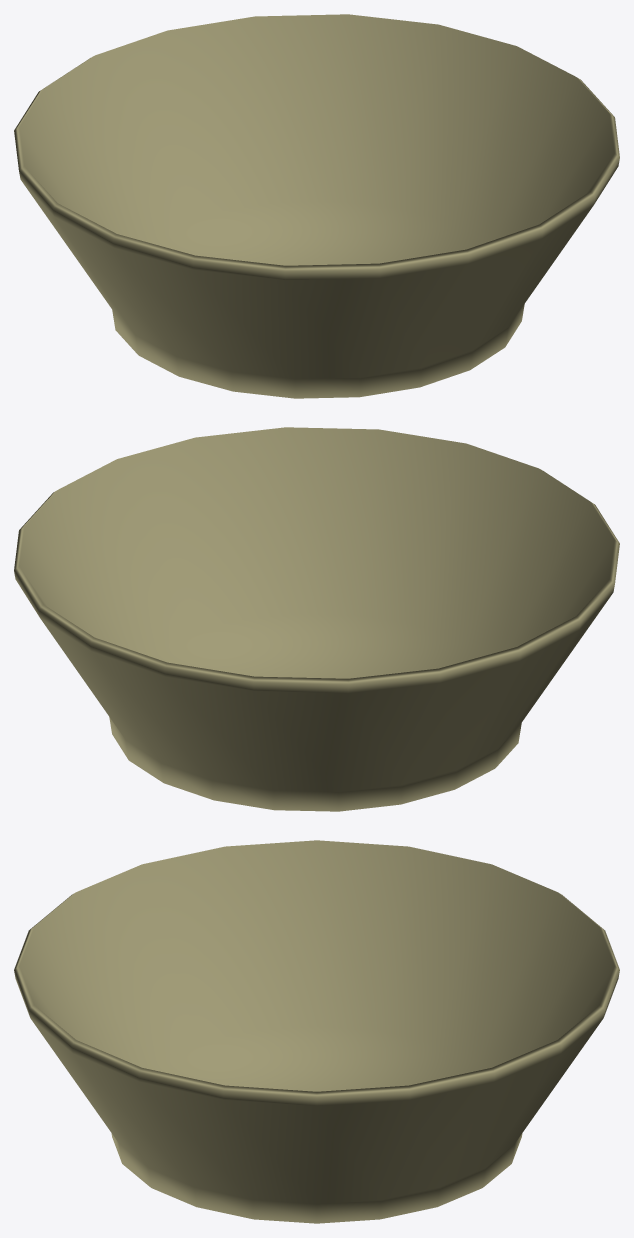
The picture shows the model from 3 angles, top to bottom: view 1: azimuth 30°, elevation 25°; view 2: azimuth 150°, elevation 25°; view 3: azimuth 270°, elevation 25°; orthographic projection.
Parts seen in each view (by area): view 1: G:\FFXIV-MapTools\exports\y6f3\bg\ex5\02_ykt_y6\fld\y6f3\bgp; view 2: G:\FFXIV-MapTools\exports\y6f3\bg\ex5\02_ykt_y6\fld\y6f3\bgp; view 3: G:\FFXIV-MapTools\exports\y6f3\bg\ex5\02_ykt_y6\fld\y6f3\bgp.
Part boxes in pixels (x1,y1,x2,y2): G:\FFXIV-MapTools\exports\y6f3\bg\ex5\02_ykt_y6\fld\y6f3\bgp: [14, 14, 619, 398]; G:\FFXIV-MapTools\exports\y6f3\bg\ex5\02_ykt_y6\fld\y6f3\bgp: [14, 427, 619, 811]; G:\FFXIV-MapTools\exports\y6f3\bg\ex5\02_ykt_y6\fld\y6f3\bgp: [14, 840, 619, 1223].
Size of the model in its own units: 1.14 by 0.355 by 1.14.
